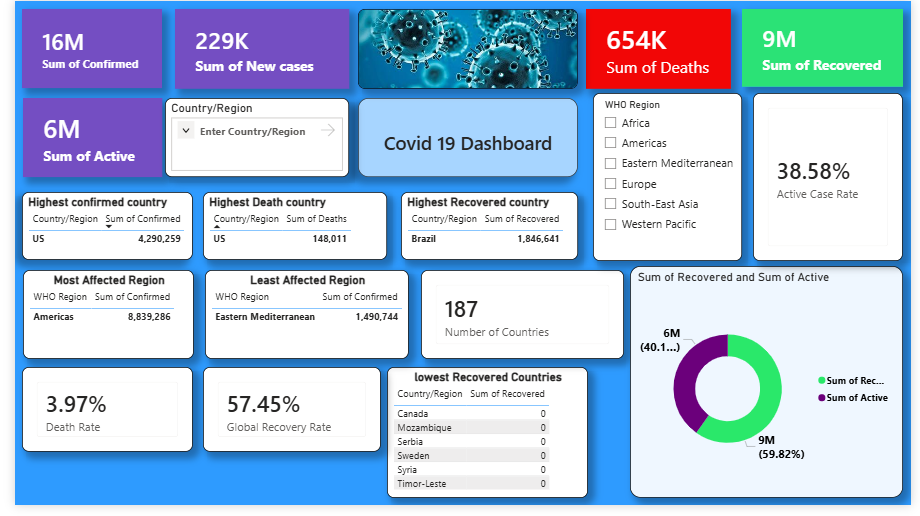

The page's visual inventory and layout, read from the dashboard file:
{"tool":"powerbi","page":{"name":"Page 1","canvas":[1280,720],"ordinal":0},"visuals":[{"type":"cardVisual","fields":{"Data":["Sum(country_wise_latest.Confirmed)"]},"box":[10,11.4,200,112.9],"z":0},{"type":"cardVisual","fields":{"Data":["Sum(country_wise_latest.Deaths)"]},"box":[815.7,11.4,207.1,114.3],"z":1000},{"type":"cardVisual","fields":{"Data":["Sum(country_wise_latest.Active)"]},"box":[11.4,138.6,198.6,112.9],"z":2000},{"type":"cardVisual","fields":{"Data":["Sum(country_wise_latest.New cases)"]},"box":[228.6,11.4,248.6,114.3],"z":3000},{"type":"cardVisual","fields":{"Data":["Sum(country_wise_latest.Recovered)"]},"box":[1038.6,11.4,230,111.4],"z":4000},{"type":"image","box":[490,11.4,314.3,114.3],"z":5000},{"type":"textbox","box":[490,138.6,314.3,112.9],"z":6000},{"type":"tableEx","title":"Highest confirmed country","fields":{"Values":["country_wise_latest.Country/Region","Sum(country_wise_latest.Confirmed)"]},"box":[10,272.9,244.3,97.1],"z":7000},{"type":"tableEx","title":"Highest Death country","fields":{"Values":["country_wise_latest.Country/Region","Sum(country_wise_latest.Deaths)"]},"box":[268.6,272.9,262.9,97.1],"z":8000},{"type":"tableEx","title":"Highest Recovered country","fields":{"Values":["country_wise_latest.Country/Region","Sum(country_wise_latest.Recovered)"]},"box":[551.4,272.9,252.9,97.1],"z":9000},{"type":"tableEx","title":"lowest Recovered Countries","fields":{"Values":["country_wise_latest.Country/Region","Sum(country_wise_latest.Recovered)"]},"box":[531.4,522.9,287.1,187.1],"z":10000},{"type":"tableEx","title":"Most Affected Region","fields":{"Values":["country_wise_latest.WHO Region","Sum(country_wise_latest.Confirmed)"]},"box":[11.4,384.3,244.3,127.1],"z":11000},{"type":"tableEx","title":"Least Affected Region","fields":{"Values":["country_wise_latest.WHO Region","Sum(country_wise_latest.Confirmed)"]},"box":[271.4,384.3,291.4,127.1],"z":12000},{"type":"cardVisual","fields":{"Data":["country_wise_latest.Number of Countries"]},"box":[580,384.3,290,127.1],"z":13000},{"type":"cardVisual","fields":{"Data":["country_wise_latest.Death Rate"]},"box":[10,522.9,244.3,121.4],"z":14000},{"type":"cardVisual","fields":{"Data":["country_wise_latest.Global Recovery Rate"]},"box":[268.6,522.9,254.3,121.4],"z":15000},{"type":"textSlicer","fields":{"Values":["country_wise_latest.Country/Region"]},"box":[214.3,138.6,262.9,112.9],"z":16000},{"type":"slicer","fields":{"Values":["country_wise_latest.WHO Region"]},"box":[825.7,131.4,212.9,240],"z":17000},{"type":"donutChart","fields":{"Y":["Sum(country_wise_latest.Recovered)","Sum(country_wise_latest.Active)"]},"box":[878.6,378.6,390,331.4],"z":18000},{"type":"cardVisual","fields":{"Data":["country_wise_latest.Active Case Rate"]},"box":[1054.3,131.4,214.3,240],"z":19000}]}

Visuals, with their boxes in screenshot pixels (x1, y1, x2, y2), scaled from the page's 1280x720 canvas onto the 920x516 screenshot:
cardVisual - Sum(country_wise_latest.Confirmed): select_region(7, 8, 151, 89)
cardVisual - Sum(country_wise_latest.Deaths): select_region(586, 8, 735, 90)
cardVisual - Sum(country_wise_latest.Active): select_region(8, 99, 151, 180)
cardVisual - Sum(country_wise_latest.New cases): select_region(164, 8, 343, 90)
cardVisual - Sum(country_wise_latest.Recovered): select_region(746, 8, 912, 88)
image: select_region(352, 8, 578, 90)
textbox: select_region(352, 99, 578, 180)
"Highest confirmed country" tableEx: select_region(7, 196, 183, 265)
"Highest Death country" tableEx: select_region(193, 196, 382, 265)
"Highest Recovered country" tableEx: select_region(396, 196, 578, 265)
"lowest Recovered Countries" tableEx: select_region(382, 375, 588, 509)
"Most Affected Region" tableEx: select_region(8, 275, 184, 367)
"Least Affected Region" tableEx: select_region(195, 275, 405, 367)
cardVisual - country_wise_latest.Number of Countries: select_region(417, 275, 625, 367)
cardVisual - country_wise_latest.Death Rate: select_region(7, 375, 183, 462)
cardVisual - country_wise_latest.Global Recovery Rate: select_region(193, 375, 376, 462)
textSlicer - country_wise_latest.Country/Region: select_region(154, 99, 343, 180)
slicer - country_wise_latest.WHO Region: select_region(593, 94, 746, 266)
donutChart - Sum(country_wise_latest.Recovered) x Sum(country_wise_latest.Active): select_region(631, 271, 912, 509)
cardVisual - country_wise_latest.Active Case Rate: select_region(758, 94, 912, 266)
